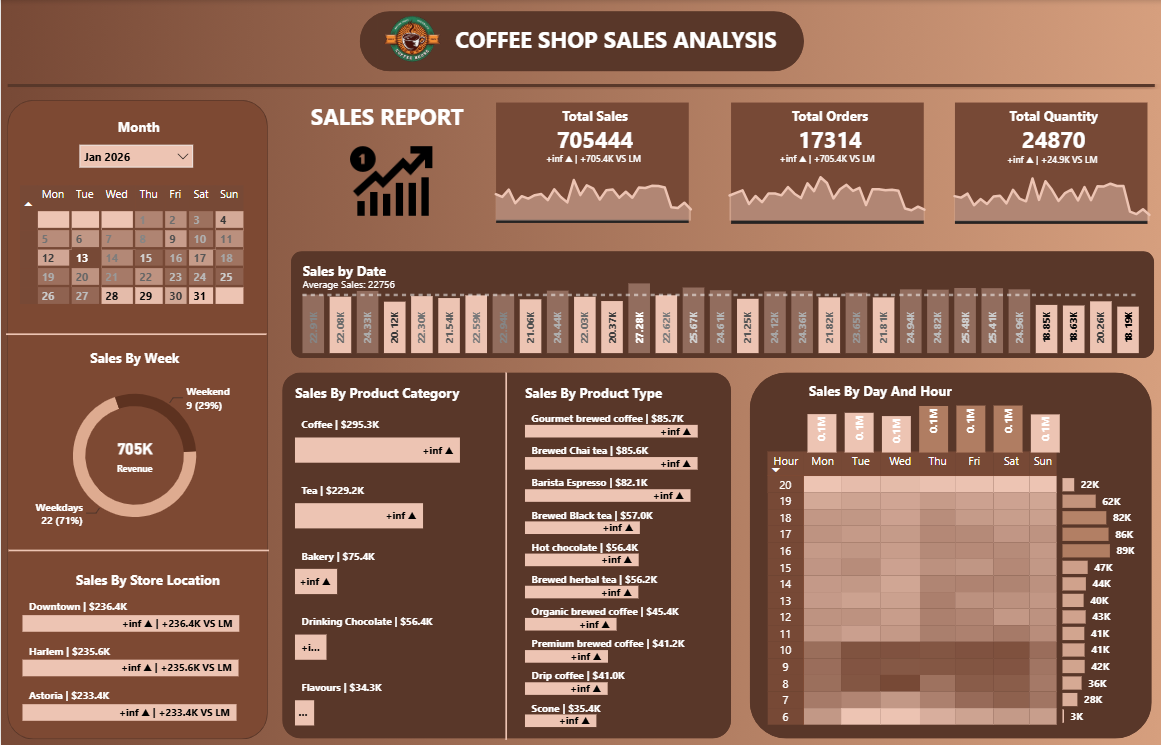

This screenshot's page, from the dashboard's own definition file:
{"tool":"powerbi","page":{"name":"Page 1","canvas":[1400,900],"ordinal":0},"visuals":[{"type":"cardVisual","fields":{"Data":["Date Table.Total Sales"]},"box":[592.5,119,242.9,155.9],"z":0,"group":"g8"},{"type":"donutChart","title":"Sales By Week","fields":{"Category":["Date Table.Weekdays And Weekend"],"Y":["CountNonNull(Date Table.Weekdays And Weekend)"]},"box":[15.7,420,292.5,236.2],"z":0,"group":"g1"},{"type":"shape","box":[903.3,450,485,441.7],"z":0},{"type":"cardVisual","fields":{"Data":["Count(Transactions.transaction_id)"]},"box":[875.3,119,242.9,156.7],"z":1000,"group":"g8"},{"type":"shape","box":[350,302.5,1041.2,128.8],"z":1000},{"type":"card","fields":{"Values":["Sum(Transactions.Sales)"]},"box":[111.8,512.9,99.9,69.7],"z":1000,"group":"g1"},{"type":"shape","box":[432.5,14.1,535.8,72.5],"z":1312,"group":"g5"},{"type":"cardVisual","fields":{"Data":["Sum(Transactions.transaction_qty)"]},"box":[1146.1,118.6,242.8,156.6],"z":2000,"group":"g8"},{"type":"shape","box":[340,450,541.4,441.4],"z":2000},{"type":"shape","box":[7.1,120,314.3,771.4],"z":3000},{"type":"areaChart","fields":{"Category":["Date Table.Date.Variation.Date Hierarchy.Year","Date Table.Date.Variation.Date Hierarchy.Quarter","Date Table.Date.Variation.Date Hierarchy.Month","Date Table.Date.Variation.Date Hierarchy.Day"],"Y":["Date Table.Total Sales"]},"box":[581.4,184.1,265.4,87.1],"z":3000,"group":"g8"},{"type":"group","id":"g1","title":"Group 8","box":[15.7,420,292.5,236.2],"z":3004,"group":"g2"},{"type":"group","id":"g2","title":"Group 7","box":[15.7,420,292.5,236.2],"z":3004,"group":"g3"},{"type":"group","id":"g3","title":"Group 6","box":[15.7,420,292.5,236.2],"z":3004,"group":"g4"},{"type":"areaChart","fields":{"Category":["Date Table.Date.Variation.Date Hierarchy.Year","Date Table.Date.Variation.Date Hierarchy.Quarter","Date Table.Date.Variation.Date Hierarchy.Month","Date Table.Date.Variation.Date Hierarchy.Day"],"Y":["Sum(Transactions.transaction_qty)"]},"box":[1134.8,184.8,265.2,86.3],"z":4000,"group":"g8"},{"type":"pivotTable","fields":{"Columns":["Date Table.Day Name"],"Rows":["Date Table.Week No"],"Values":["Min(Date Table.Day Num)"]},"box":[18.6,218.6,290,184.3],"z":4000},{"type":"areaChart","fields":{"Category":["Date Table.Date.Variation.Date Hierarchy.Year","Date Table.Date.Variation.Date Hierarchy.Quarter","Date Table.Date.Variation.Date Hierarchy.Month","Date Table.Date.Variation.Date Hierarchy.Day"],"Y":["Count(Transactions.transaction_id)"]},"box":[863.9,184,265.2,87.1],"z":5000,"group":"g8"},{"type":"clusteredBarChart","title":"Sales By Store Location","fields":{"Category":["Transactions.store_location"],"Y":["Transactions.PlaceHolder","Sum(Transactions.Sales)"]},"box":[21.2,687.5,312.5,190],"z":5000},{"type":"group","id":"g4","title":"Group 5","box":[15.7,420,292.9,235.7],"z":6000},{"type":"clusteredColumnChart","fields":{"Category":["Transactions.transaction_date"],"Y":["Sum(Transactions.Sales)"]},"box":[358.3,319.2,1019.2,112.5],"z":7000},{"type":"clusteredBarChart","title":"Sales By Product Category","fields":{"Category":["Transactions.product_category"],"Y":["Transactions.PlaceHolder","Sum(Transactions.Sales)"]},"box":[350,463.3,250,420],"z":8000},{"type":"pivotTable","fields":{"Columns":["Date Table.Day Name"],"Rows":["Transactions.Hour"],"Values":["Date Table.Total Sales"]},"box":[920,538.5,368.9,354.1],"z":8000,"group":"g6"},{"type":"image","box":[449,12,93,75],"z":8001,"group":"g5"},{"type":"clusteredBarChart","title":"Sales By Product Type","fields":{"Category":["Transactions.product_type"],"Y":["Transactions.PlaceHolder","Sum(Transactions.Sales)"]},"box":[627.8,463.3,253.3,420],"z":9000},{"type":"clusteredBarChart","fields":{"Category":["Transactions.Hour"],"Y":["Date Table.Total Sales"]},"box":[1276.2,563.3,96.9,313.1],"z":9000,"group":"g6"},{"type":"group","id":"g5","title":"Group 2","box":[432.5,12,535.8,75],"z":10000,"group":"g7"},{"type":"group","id":"g6","title":"Group 1","box":[920,456.2,452.5,436.2],"z":10000},{"type":"columnChart","fields":{"Category":["Date Table.Day Name"],"Y":["Date Table.Total Sales"]},"box":[968.9,456.2,315.4,95.2],"z":10001,"group":"g6"},{"type":"shape","box":[0,95.7,1400,12.9],"z":11000},{"type":"slicer","fields":{"Values":["Date Table.Mth Year"]},"box":[85,163.8,157.5,55],"z":12000},{"type":"textbox","box":[542.3,23.8,413.1,46.9],"z":12001,"group":"g7"},{"type":"group","id":"g7","title":"Group 3","box":[432.5,12,535.8,75],"z":13000},{"type":"textbox","box":[358.8,311.2,157.5,41.2],"z":14000},{"type":"group","id":"g8","title":"Group 4","box":[581.4,118.6,818.6,157.1],"z":15000},{"type":"textbox","box":[970,456.2,215.4,36.2],"z":16000},{"type":"shape","box":[5.7,385.7,314.3,34.3],"z":17000},{"type":"shape","box":[8.6,647.1,314.3,34.3],"z":18000},{"type":"textbox","box":[135,137.5,76.2,37.5],"z":19000},{"type":"shape","box":[581.1,450,57.8,443.3],"z":20000},{"type":"textbox","box":[340,117.8,253.3,77.8],"z":21000},{"type":"image","box":[405,158.3,128.3,120],"z":22000}]}

Visuals, with their boxes in screenshot pixels (x1, y1, x2, y2), scaled from the page's 1400x900 canvas onto the 1161x745 screenshot:
cardVisual - Date Table.Total Sales: bbox=[491, 99, 693, 228]
"Sales By Week" donutChart: bbox=[13, 348, 256, 543]
shape: bbox=[749, 372, 1151, 738]
cardVisual - Count(Transactions.transaction_id): bbox=[726, 99, 927, 228]
shape: bbox=[290, 250, 1154, 357]
card - Sum(Transactions.Sales): bbox=[93, 425, 176, 482]
shape: bbox=[359, 12, 803, 72]
cardVisual - Sum(Transactions.transaction_qty): bbox=[950, 98, 1152, 228]
shape: bbox=[282, 372, 731, 738]
shape: bbox=[6, 99, 267, 738]
areaChart - Date Table.Date.Variation.Date Hierarchy.Year x Date Table.Date.Variation.Date Hierarchy.Quarter: bbox=[482, 152, 702, 224]
"Group 8" group: bbox=[13, 348, 256, 543]
"Group 7" group: bbox=[13, 348, 256, 543]
"Group 6" group: bbox=[13, 348, 256, 543]
areaChart - Date Table.Date.Variation.Date Hierarchy.Year x Date Table.Date.Variation.Date Hierarchy.Quarter: bbox=[941, 153, 1160, 224]
pivotTable - Date Table.Day Name x Date Table.Week No: bbox=[15, 181, 256, 334]
areaChart - Date Table.Date.Variation.Date Hierarchy.Year x Date Table.Date.Variation.Date Hierarchy.Quarter: bbox=[716, 152, 936, 224]
"Sales By Store Location" clusteredBarChart: bbox=[18, 569, 277, 726]
"Group 5" group: bbox=[13, 348, 256, 543]
clusteredColumnChart - Transactions.transaction_date x Sum(Transactions.Sales): bbox=[297, 264, 1142, 357]
"Sales By Product Category" clusteredBarChart: bbox=[290, 384, 498, 731]
pivotTable - Date Table.Day Name x Transactions.Hour: bbox=[763, 446, 1069, 739]
image: bbox=[372, 10, 449, 72]
"Sales By Product Type" clusteredBarChart: bbox=[521, 384, 731, 731]
clusteredBarChart - Transactions.Hour x Date Table.Total Sales: bbox=[1058, 466, 1139, 725]
"Group 2" group: bbox=[359, 10, 803, 72]
"Group 1" group: bbox=[763, 378, 1138, 739]
columnChart - Date Table.Day Name x Date Table.Total Sales: bbox=[803, 378, 1065, 456]
shape: bbox=[0, 79, 1160, 90]
slicer - Date Table.Mth Year: bbox=[70, 136, 201, 181]
textbox: bbox=[450, 20, 792, 59]
"Group 3" group: bbox=[359, 10, 803, 72]
textbox: bbox=[298, 258, 428, 292]
"Group 4" group: bbox=[482, 98, 1160, 228]
textbox: bbox=[804, 378, 983, 408]
shape: bbox=[5, 319, 265, 348]
shape: bbox=[7, 536, 268, 564]
textbox: bbox=[112, 114, 175, 145]
shape: bbox=[482, 372, 530, 739]
textbox: bbox=[282, 98, 492, 162]
image: bbox=[336, 131, 442, 230]
